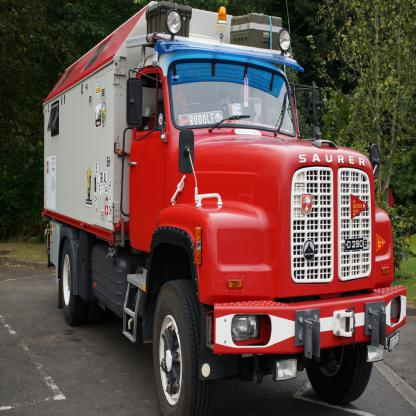Truck: (41, 0, 408, 415)
